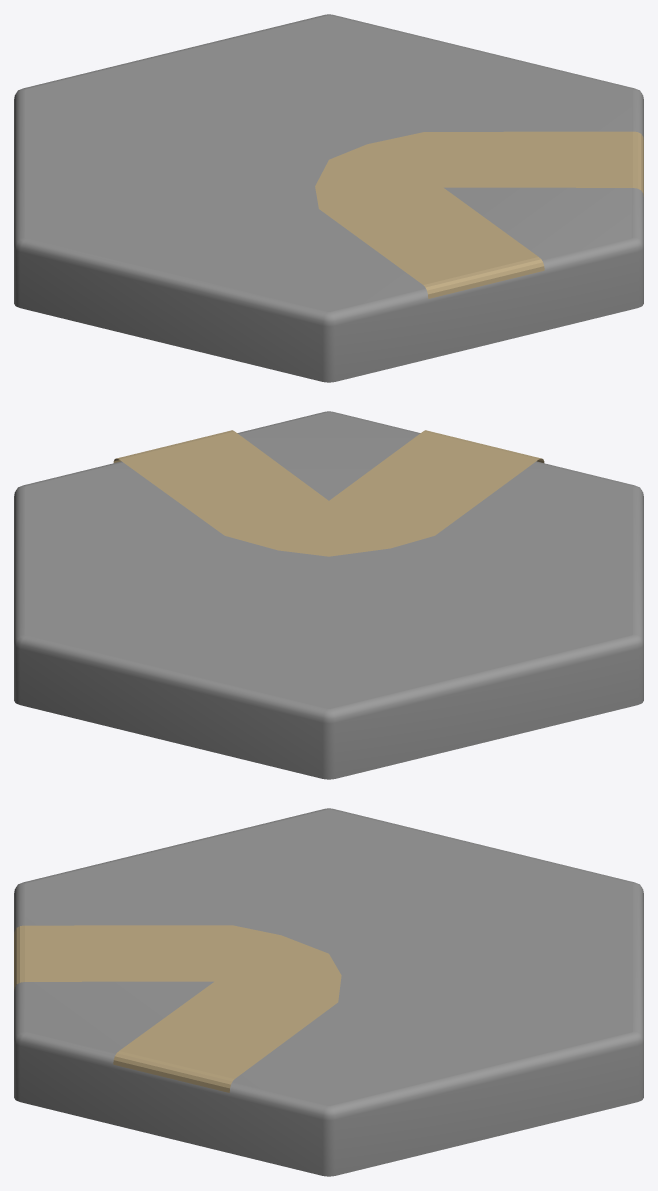
The model's file is Road_TutType2.fbx.
3 views of the same model, one above another, from view 1: azimuth 30°, elevation 25°; view 2: azimuth 150°, elevation 25°; view 3: azimuth 270°, elevation 25° (orthographic).
Parts seen in each view (by area): view 1: Object009; view 2: Object009; view 3: Object009.
Part boxes in pixels (box(x1,y1,x2,y2)): Object009: box(14, 14, 643, 382); Object009: box(14, 411, 643, 779); Object009: box(14, 808, 643, 1176).
Size of the model in its own units: 99.5 by 10.63 by 86.6.
